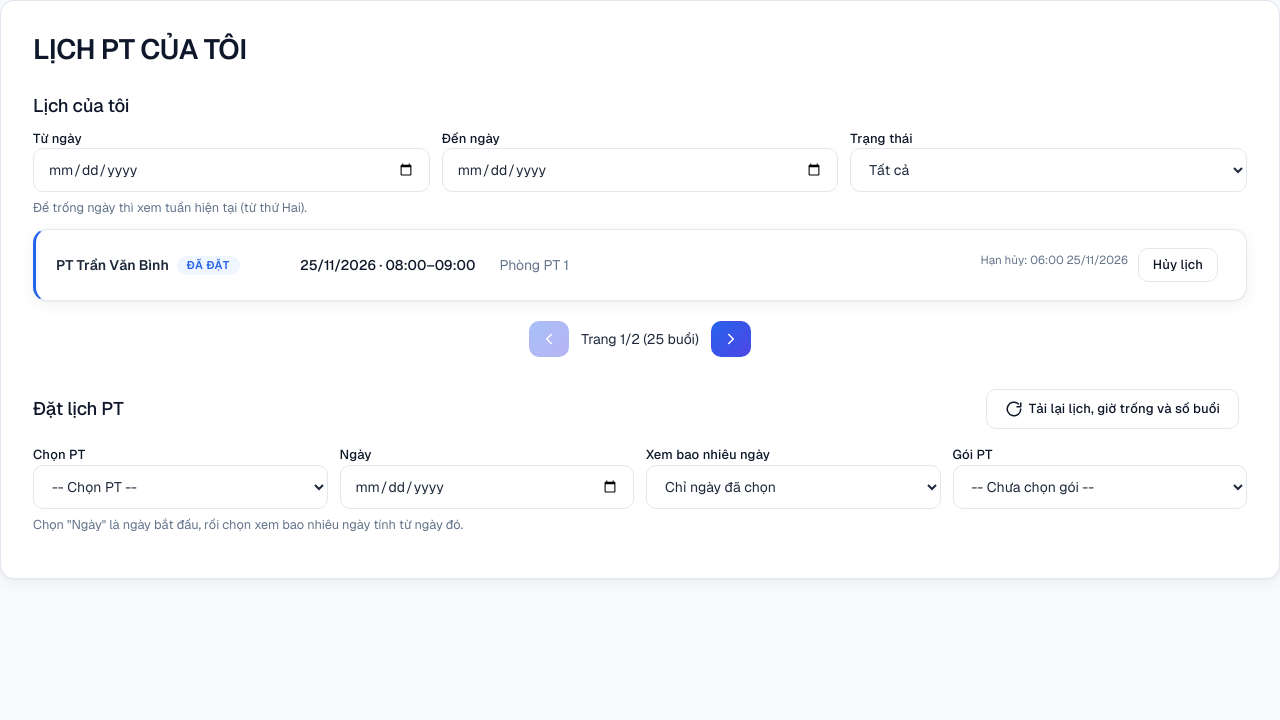
Test: US-27 bước 3: trang /member/pt-bookings › US-27-TC12: quota lấy nguyên số server, không đếm từ lịch đang thấy (lịch phân trang chỉ thấy 1 buổi, server giữ 3)
Select "PT Trần Văn Bình" in the dropdown labelled "Chọn PT": (180, 487) 33,465 -> 328,509
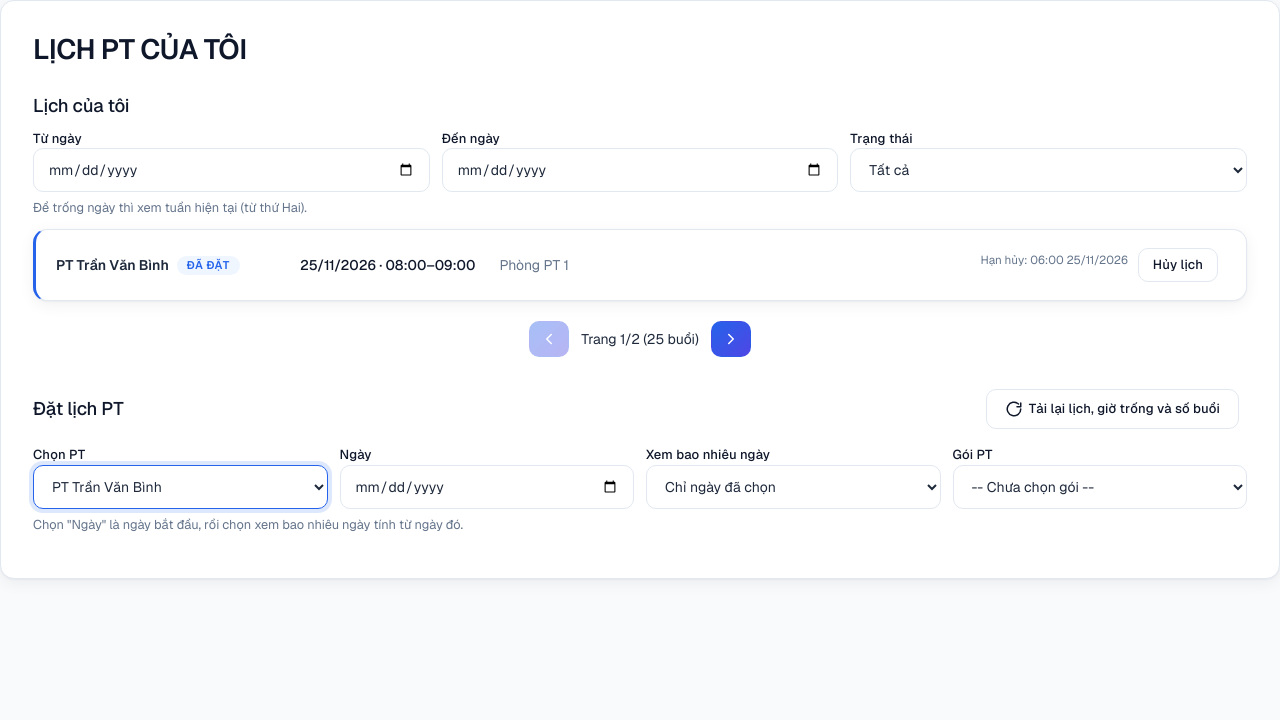
In the date field labelled "Ngày": (487, 487) 340,465 -> 634,509, type "2026-11-25"
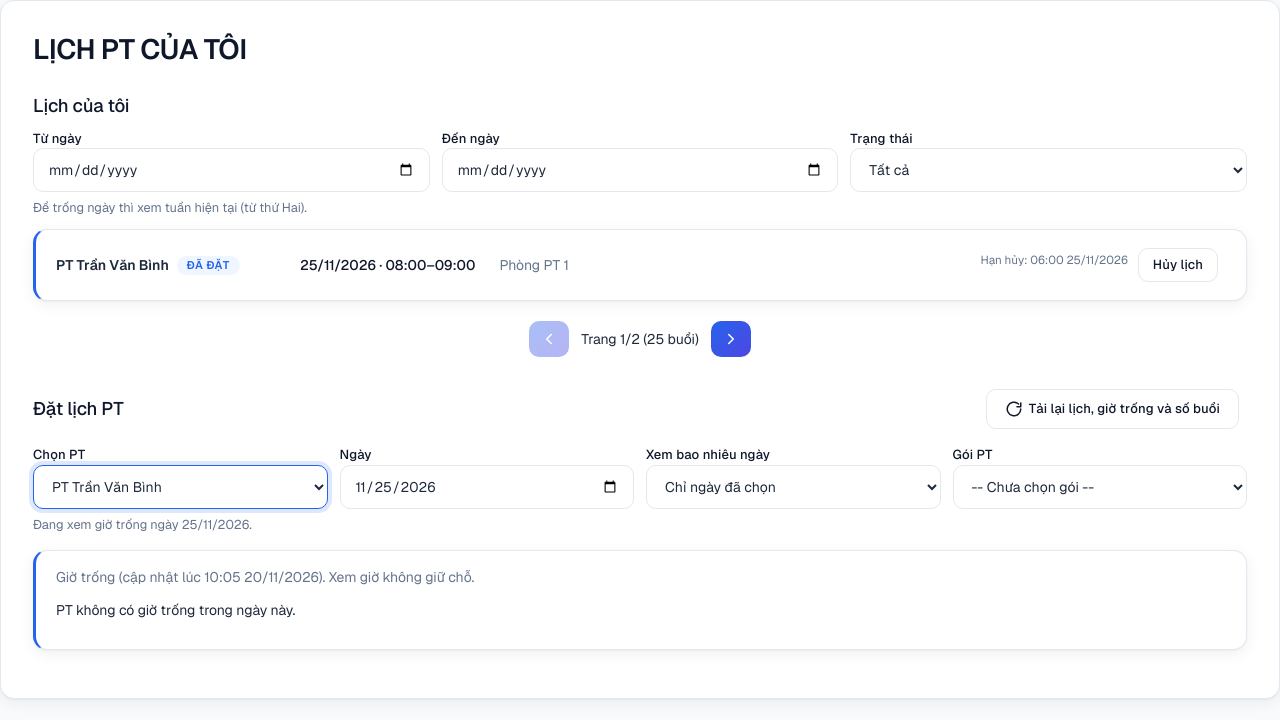
Select "PT 20 buổi" in the dropdown labelled "Gói PT": (1100, 487) 952,465 -> 1247,509
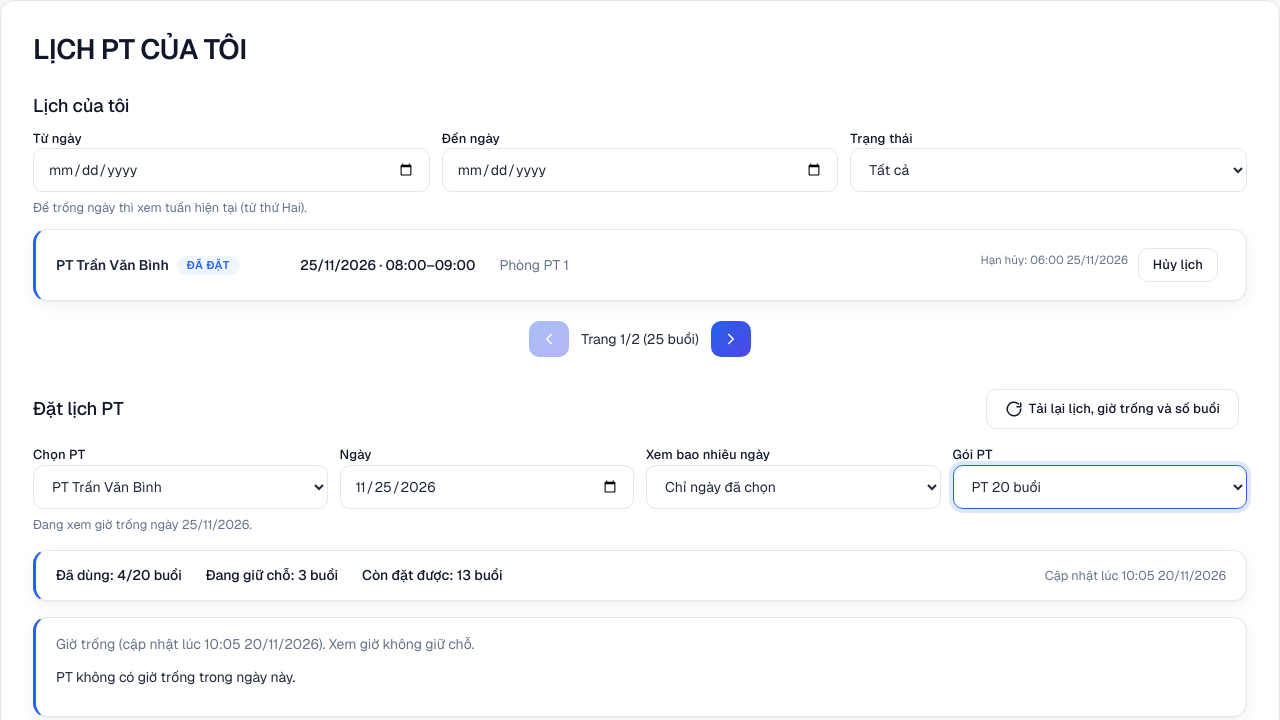
Check: the list item "Đã dùng: 4/20 buổi" is shown, box 56,565 -> 182,586
Check: the list item "Đang giữ chỗ: 3 buổi" is shown, box 206,565 -> 338,586
Check: the list item "Còn đặt được: 13 buổi" is shown, box 362,565 -> 502,586
